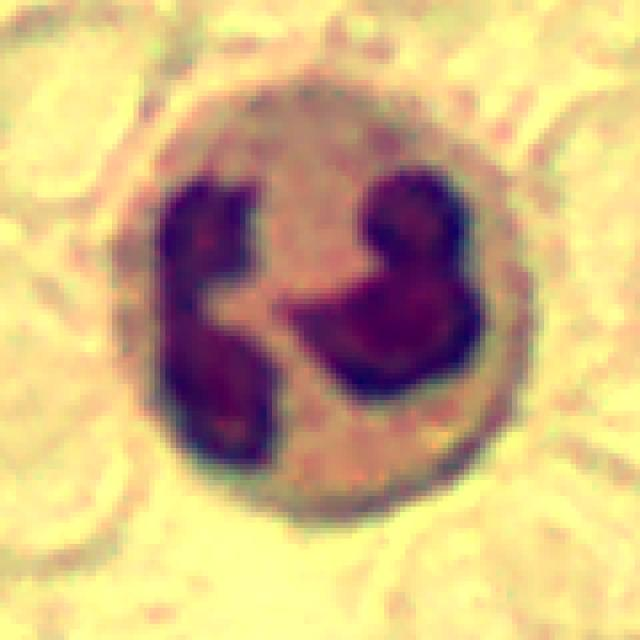WBC: (75, 53, 576, 544)
